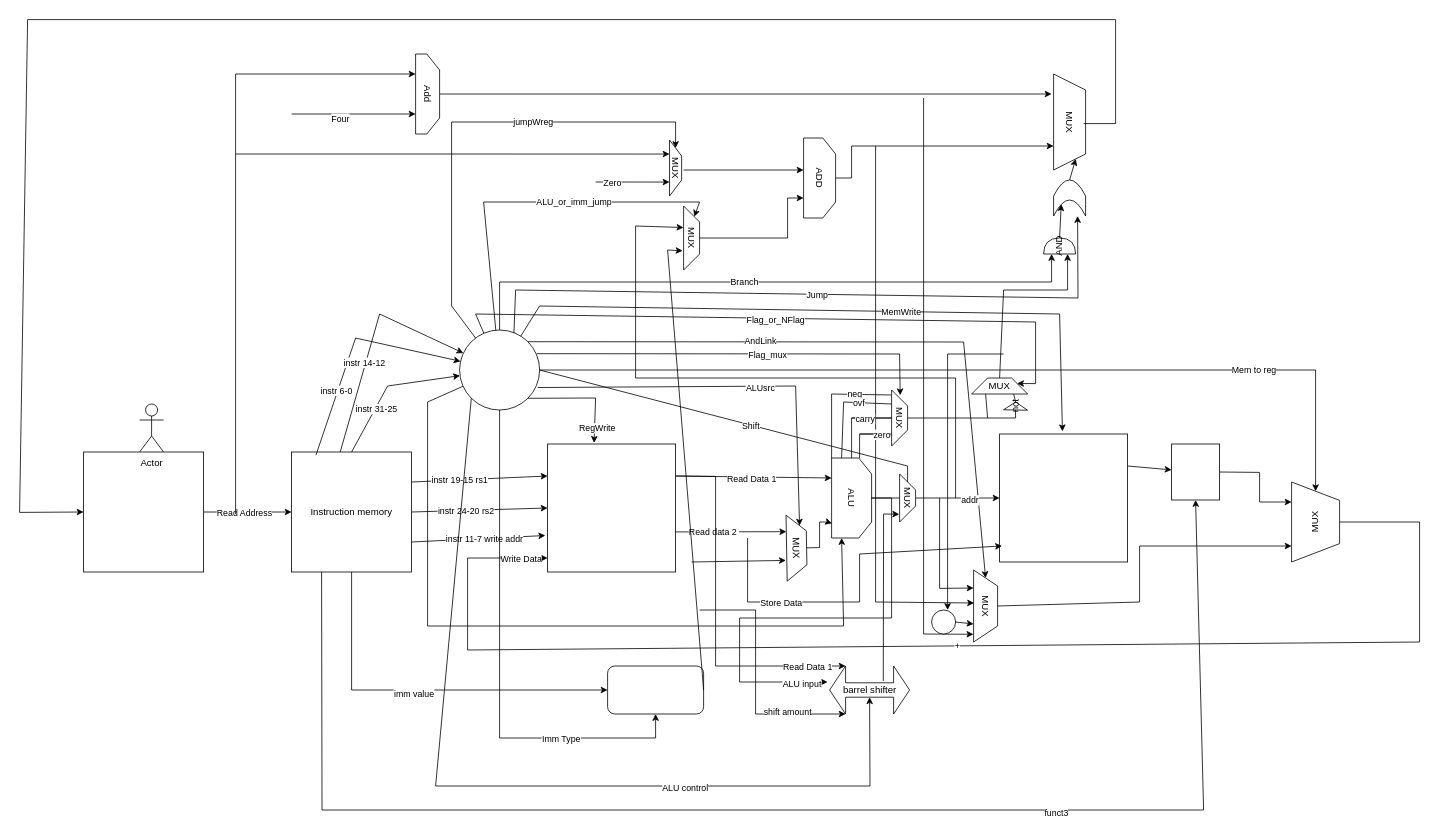
Image size: 1440x832. Some labels were removed from this diagram. The centre of each missing label's shape, as x and y in pixels:
"Control Unit" belongs at (499,369).
"Imm_Gen" belongs at (655,689).
"mem slice" belongs at (1195,471).
"Memory" belongs at (1063,497).
"OR" belongs at (1069,197).
"PC Counter" belongs at (143,511).
"register file" belongs at (611,507).
"zero extend" belongs at (943,621).
